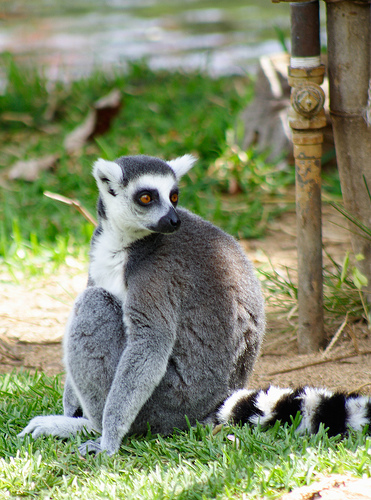cat: (12, 150, 369, 463)
